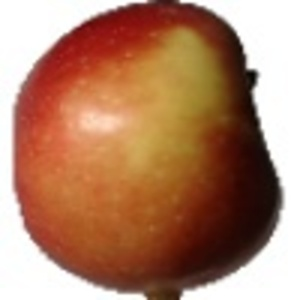maçã braeburn: (8, 1, 290, 293)
